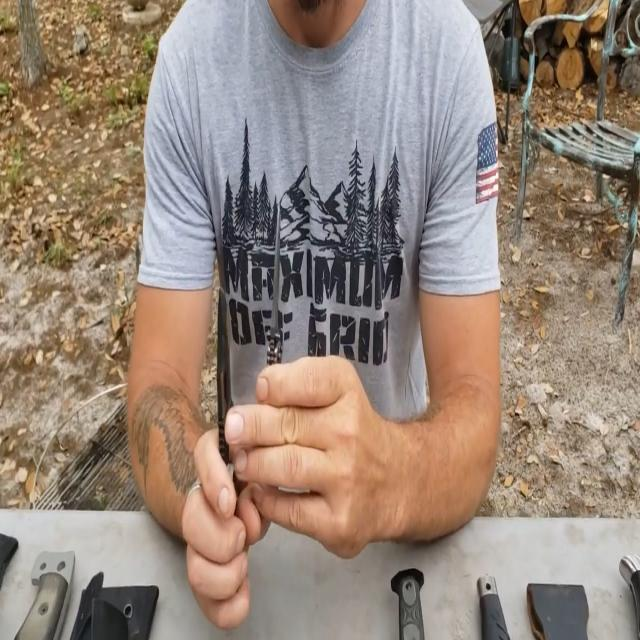knife: (169, 208, 249, 586), (259, 193, 317, 433)
